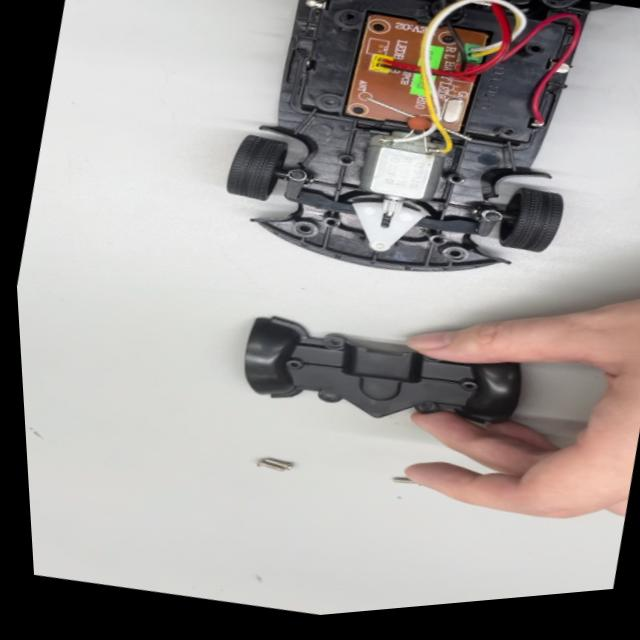motor: (347, 127, 460, 237)
motor_cover: (203, 285, 552, 468)
wheel: (210, 121, 305, 218), (480, 175, 568, 269)
